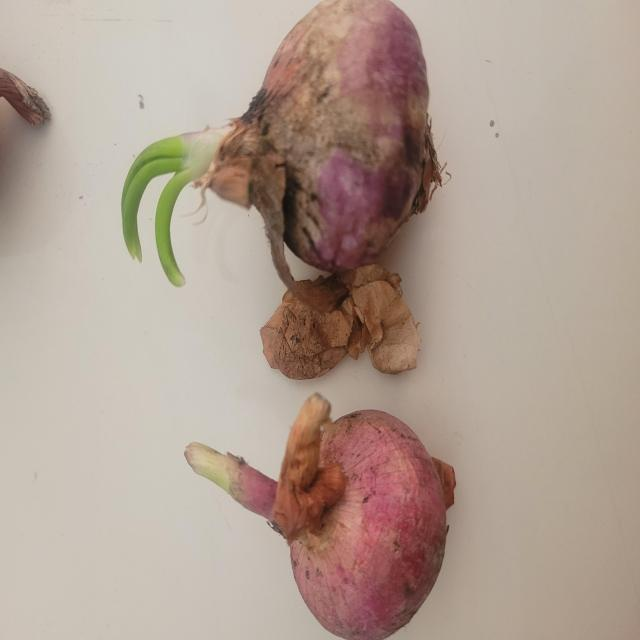rotten: (248, 100, 398, 252)
sprouting: (185, 394, 455, 640)
